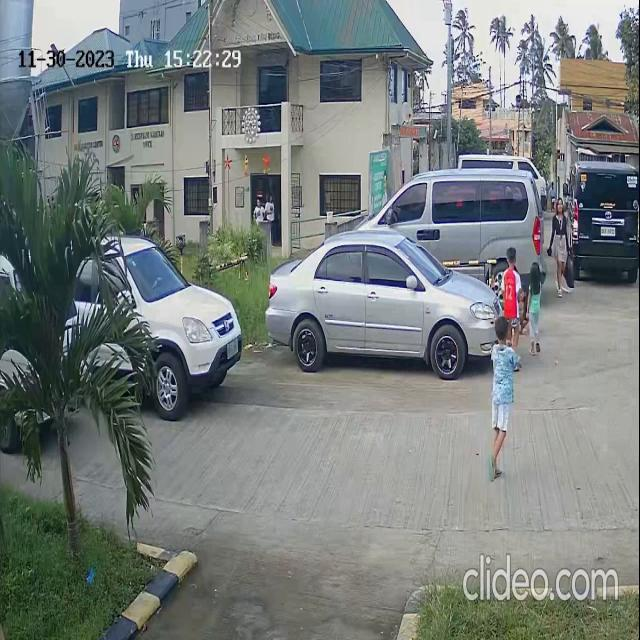person: (486, 325, 516, 477), (503, 249, 522, 353), (550, 200, 569, 292), (529, 261, 544, 352)
